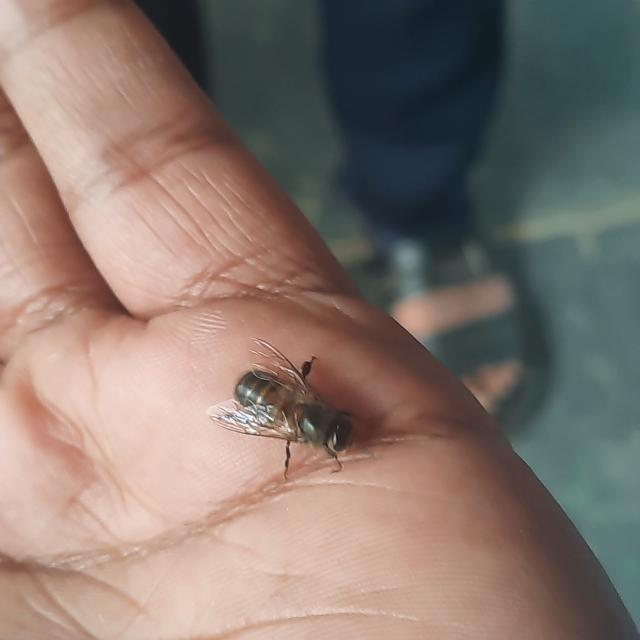honeybee: (225, 336, 387, 475)
